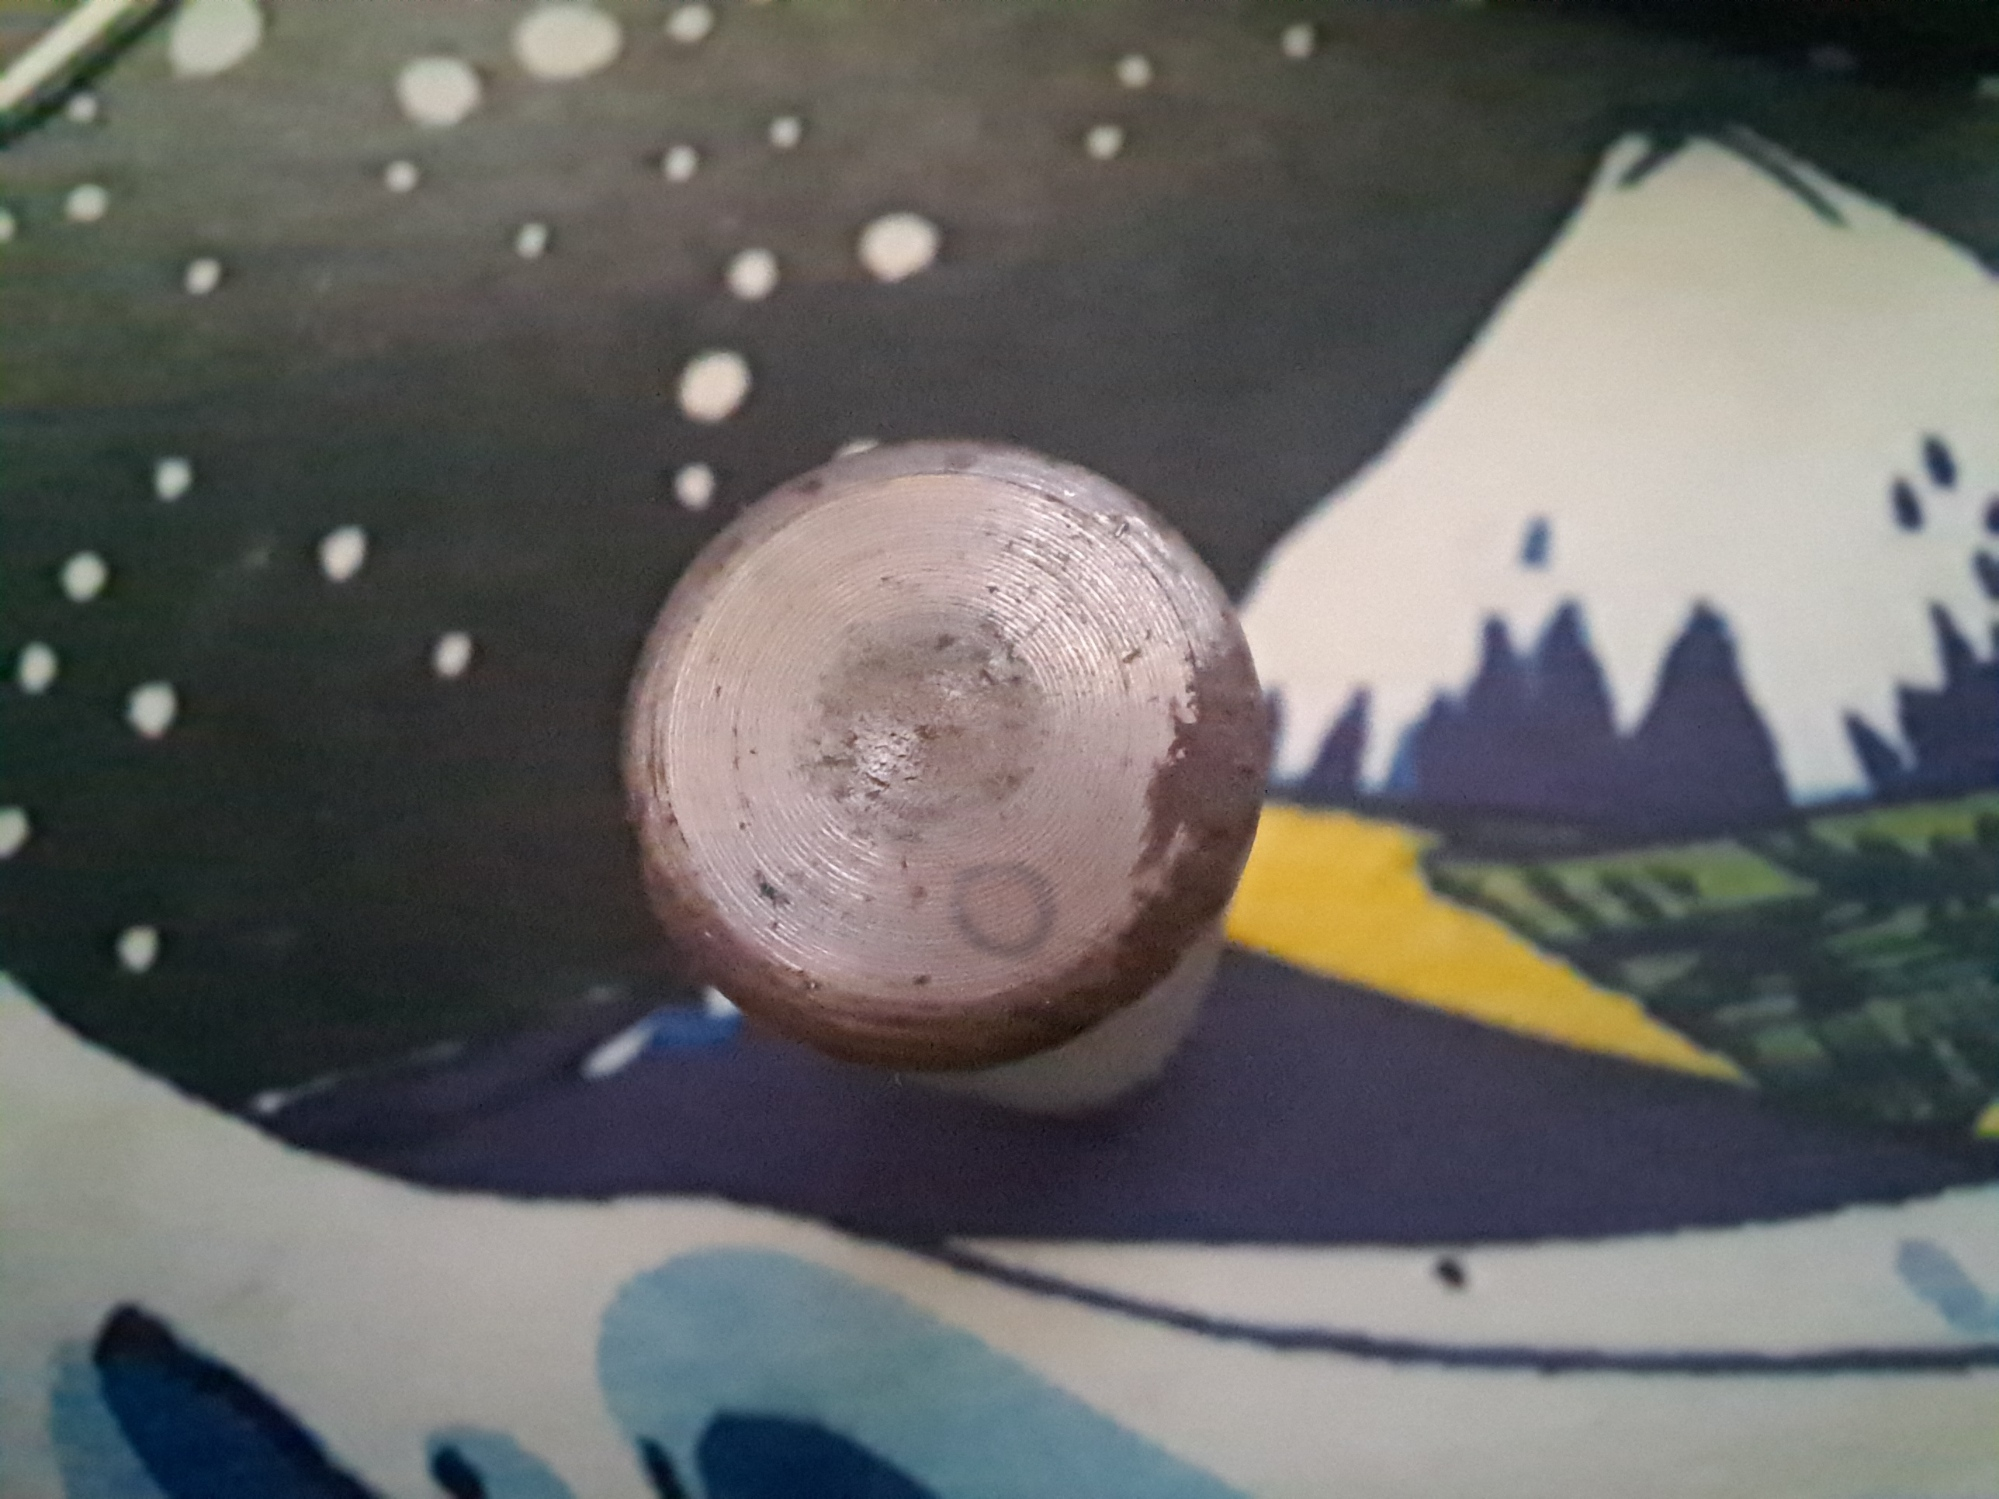плансон: (622, 438, 1266, 1121)
повреждение: (948, 857, 1059, 959)
